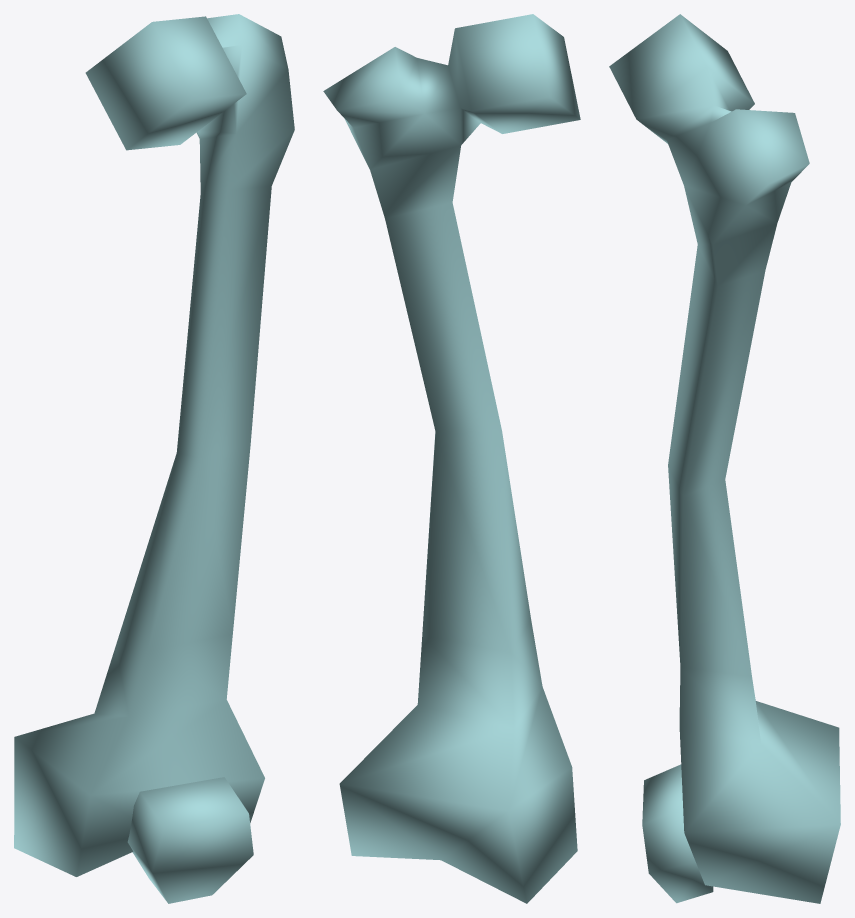
The model's file is Skelly_thigh.L.fbx.
3 renders of one model, left to right at view 1: azimuth 30°, elevation 25°; view 2: azimuth 150°, elevation 25°; view 3: azimuth 270°, elevation 25°, orthographic. The views are drawn at different scales.
Visible parts, largest first — view 1: Skelly_thigh.L; view 2: Skelly_thigh.L; view 3: Skelly_thigh.L.
Boxes of the visible parts, x1=… form: Skelly_thigh.L: x1=14, y1=14, x2=294, y2=903; Skelly_thigh.L: x1=323, y1=14, x2=580, y2=903; Skelly_thigh.L: x1=609, y1=14, x2=840, y2=903.
Bounding box in the file's own units: 14.06 × 49.55 × 12.08.
